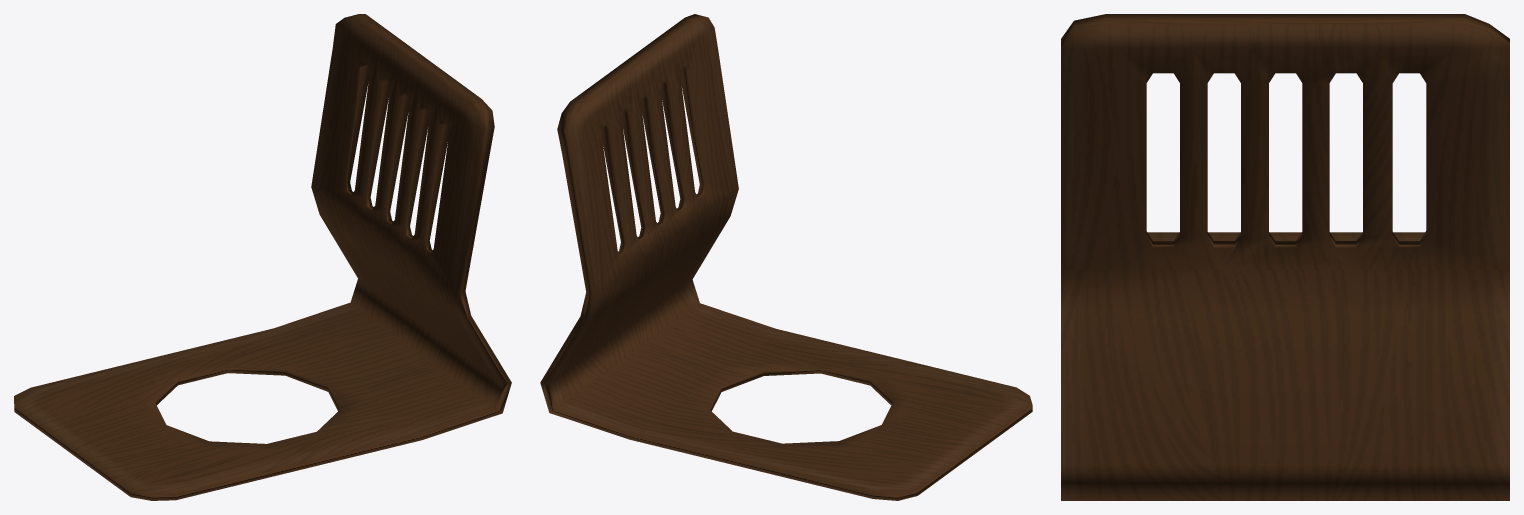
File: Zaisu.fbx
The picture shows the model from 3 angles, left to right: view 1: azimuth 30°, elevation 25°; view 2: azimuth 150°, elevation 25°; view 3: azimuth 270°, elevation 25°; orthographic projection. The views are drawn at different scales.
Parts seen in each view (by area): view 1: zaisu; view 2: zaisu; view 3: zaisu.
Boxes of the visible parts, left/top/right/bottom form: zaisu: left=14, top=14, right=511, bottom=500; zaisu: left=540, top=14, right=1032, bottom=500; zaisu: left=1061, top=14, right=1509, bottom=500.
Size of the model in its own units: 52.48 by 42.73 by 35.98.
1 material, 1 textured.
